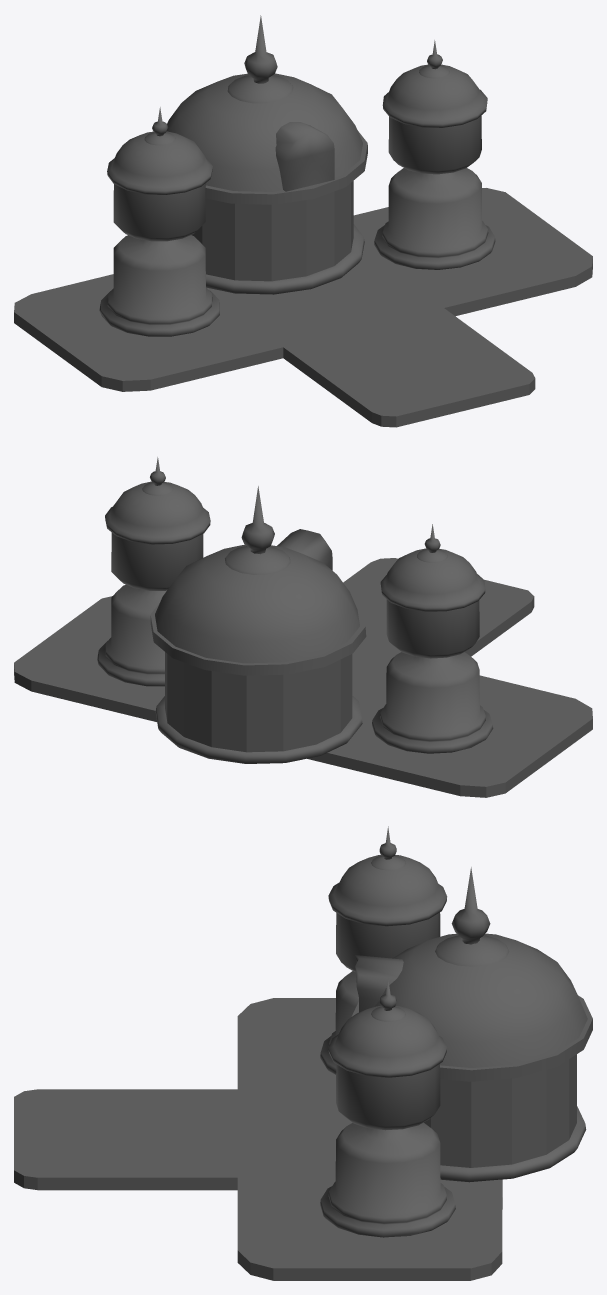
The picture shows the model from 3 angles, top to bottom: view 1: azimuth 30°, elevation 25°; view 2: azimuth 150°, elevation 25°; view 3: azimuth 270°, elevation 25°; orthographic projection. The views are drawn at different scales.
Parts seen in each view (by area): view 1: Object208; view 2: Object208; view 3: Object208.
Boxes of the visible parts, x1,y1,x2,y2 form: Object208: [14, 15, 592, 427]; Object208: [14, 457, 592, 797]; Object208: [14, 826, 592, 1280].
Size of the model in its own units: 526 by 476 by 254.
